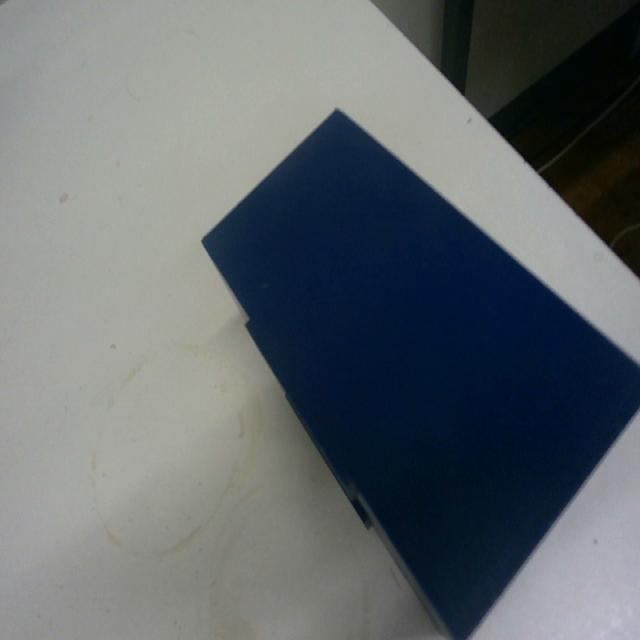Blue Cuboid: (199, 104, 639, 639)
